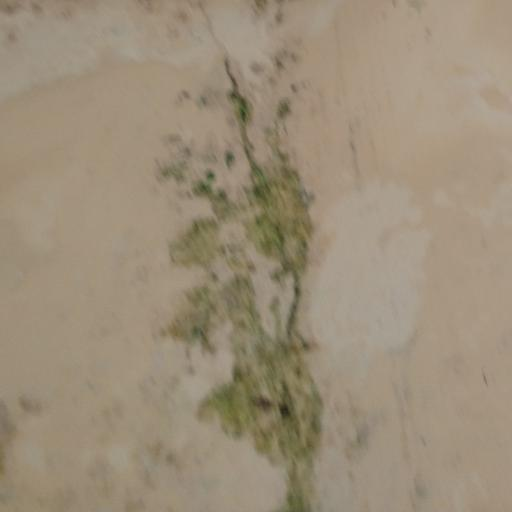algae: (133, 40, 436, 512)
